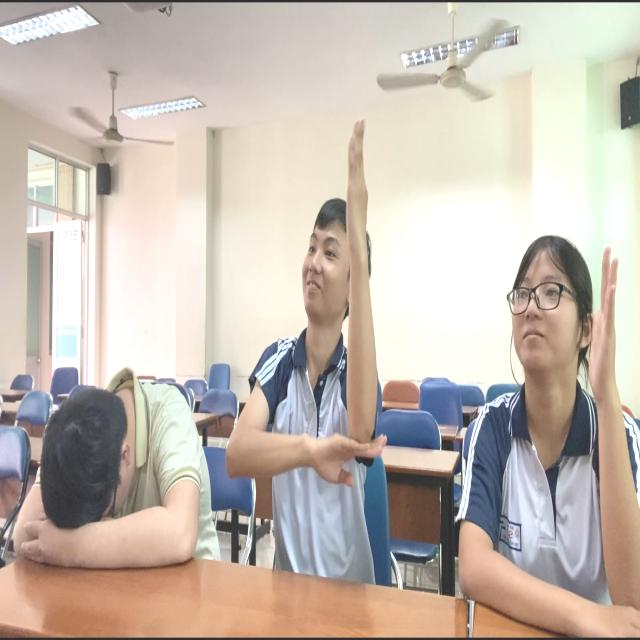raise_hand: (222, 113, 396, 582), (455, 230, 640, 638)
sleep: (8, 371, 217, 593)
